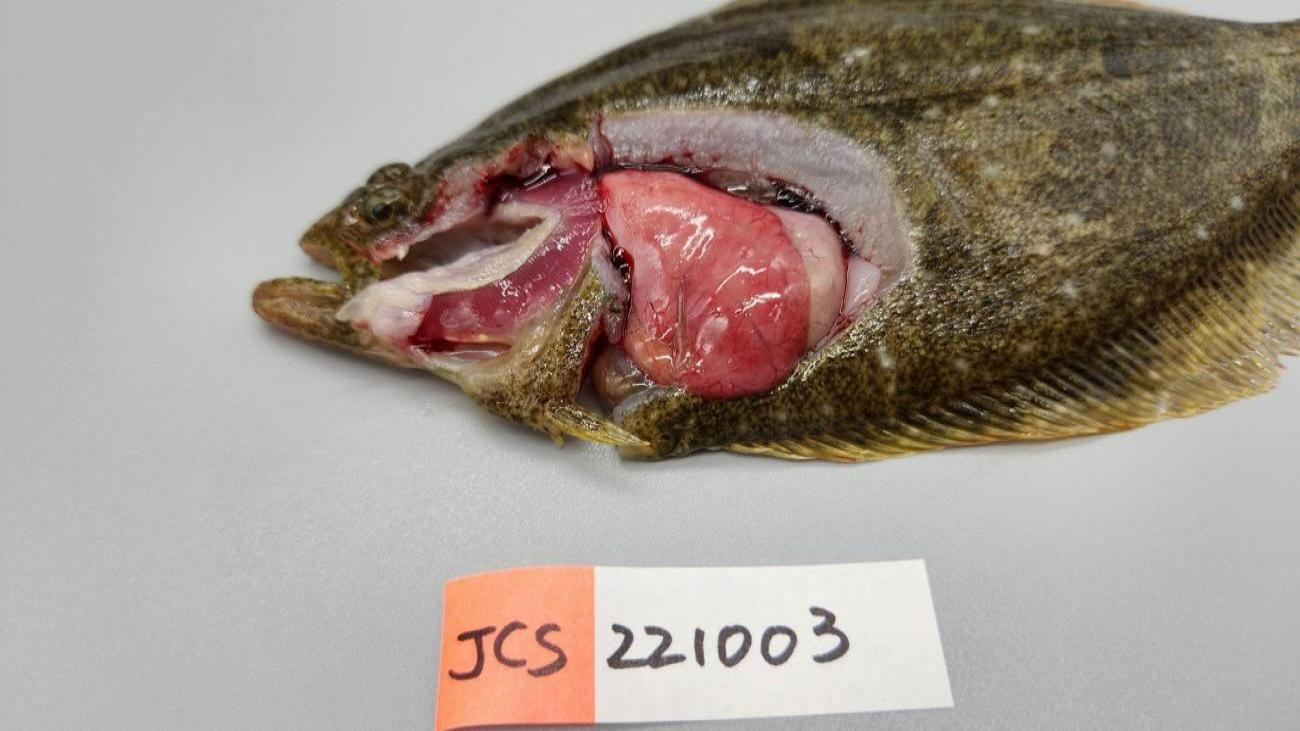POLIN: (597, 169, 811, 396)
